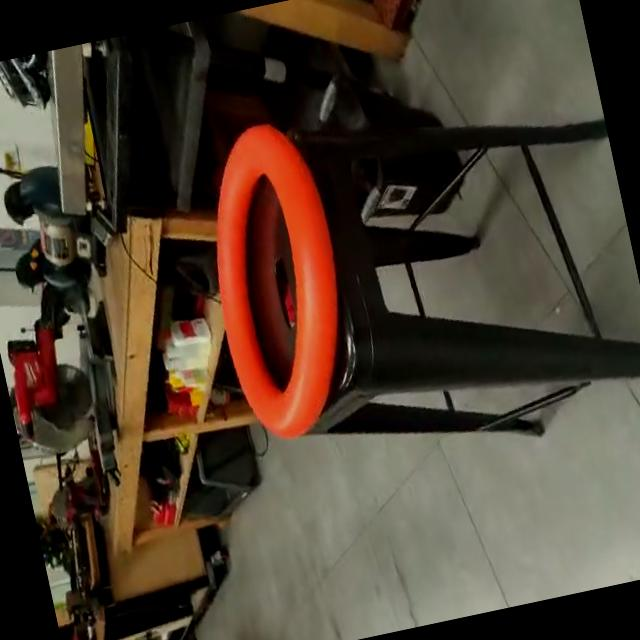note: (184, 113, 376, 449)
